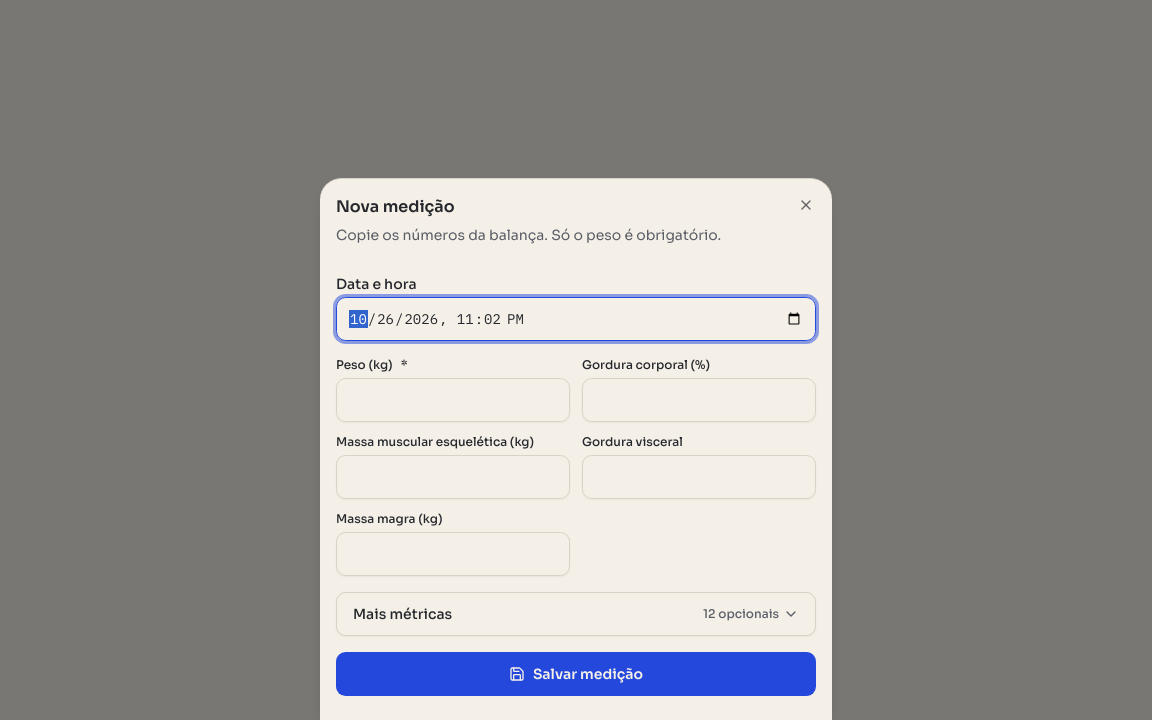
MeasurementSheet › valor fora da faixa mostra a mensagem, marca o campo e não grava
Step 1. Type "82,4" into the field labelled "Peso (kg) *" → x=453, y=400, box 336,378 -> 570,422
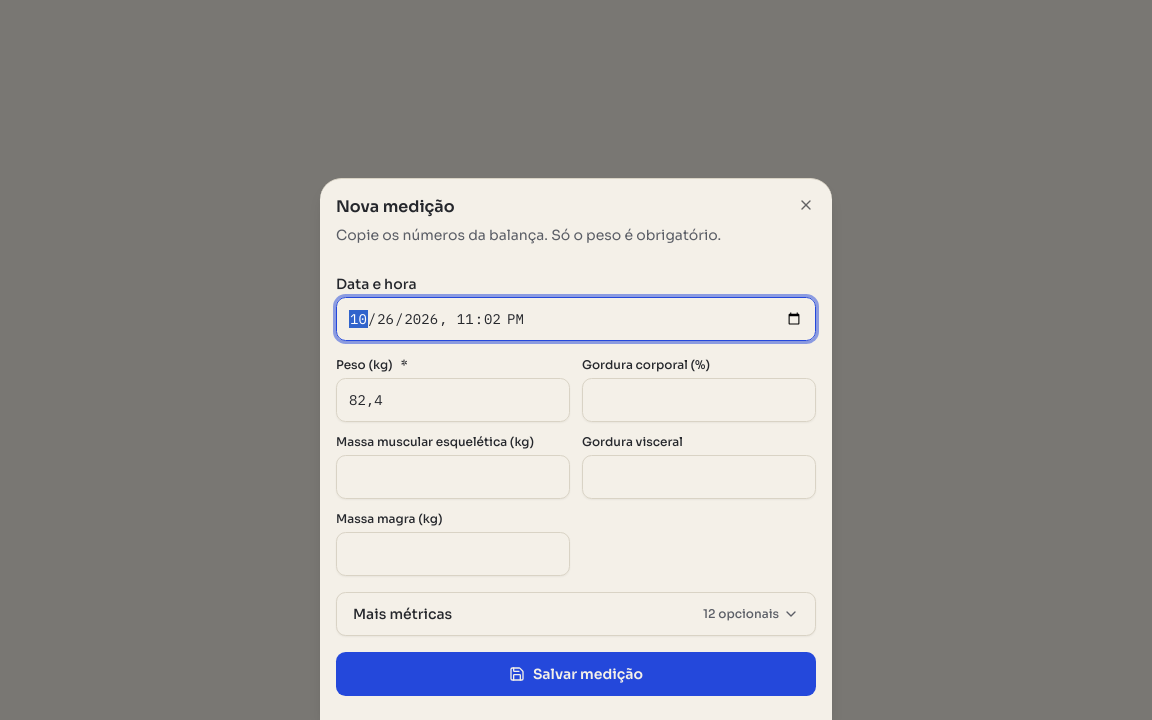
Step 2. Type "85" into the field labelled "Gordura corporal (%)" → x=699, y=400, box 582,378 -> 816,422
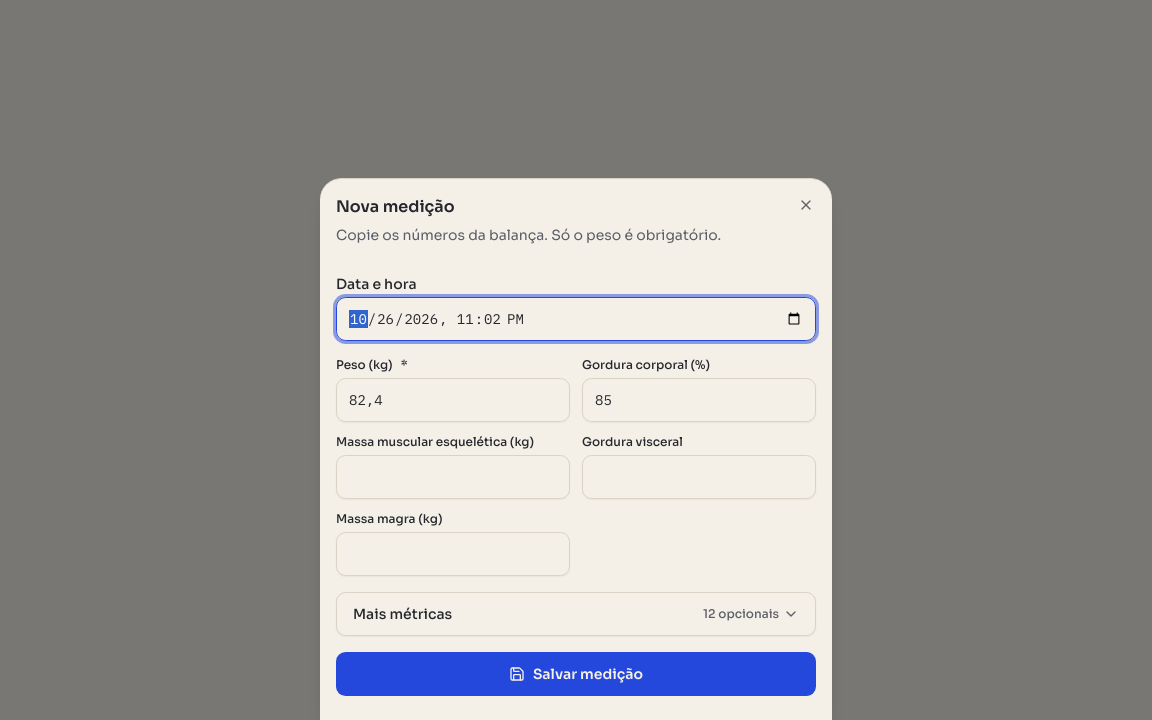
Step 3. Click the button "Salvar medição" → x=576, y=674, box 336,652 -> 816,696
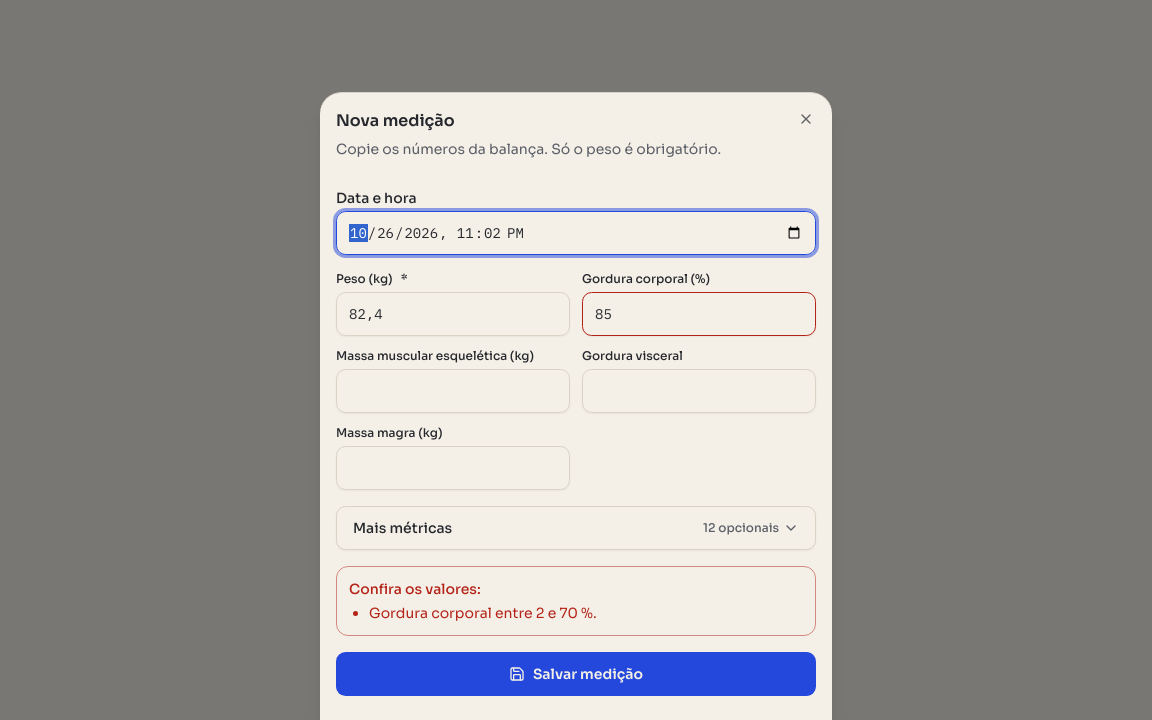
Expected: the message shows "Gordura corporal entre 2 e 70 %.", 369,604 -> 597,622
